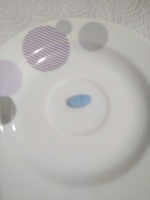Majezik: (66, 93, 92, 109)
